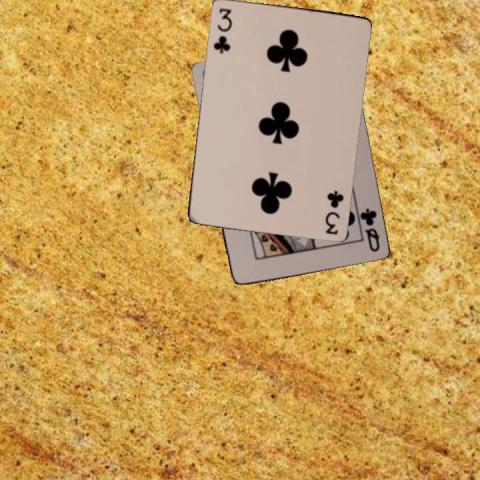3c: (210, 4, 233, 54), (322, 188, 345, 236)
Qc: (356, 205, 380, 253)
